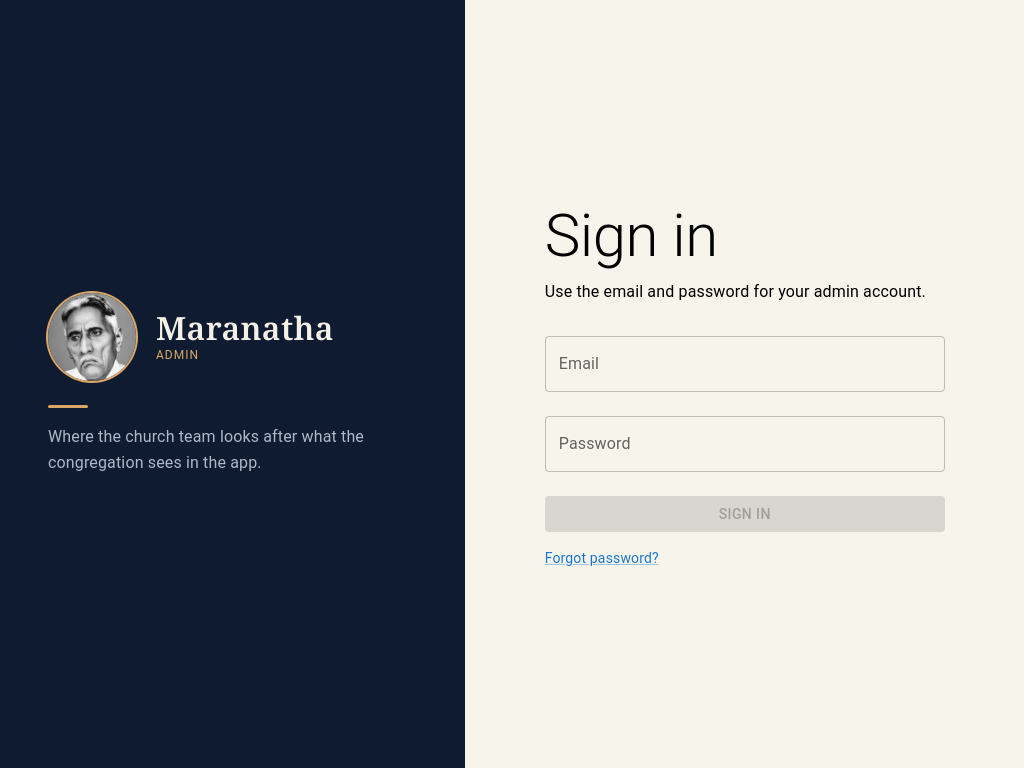
Test: LoginPage › password reset › switches to the reset-password form when "Forgot password?" is clicked
Click the button with test id "forgot-password-link".
click(602, 558)  # box top-left (545, 548), bottom-right (659, 568)
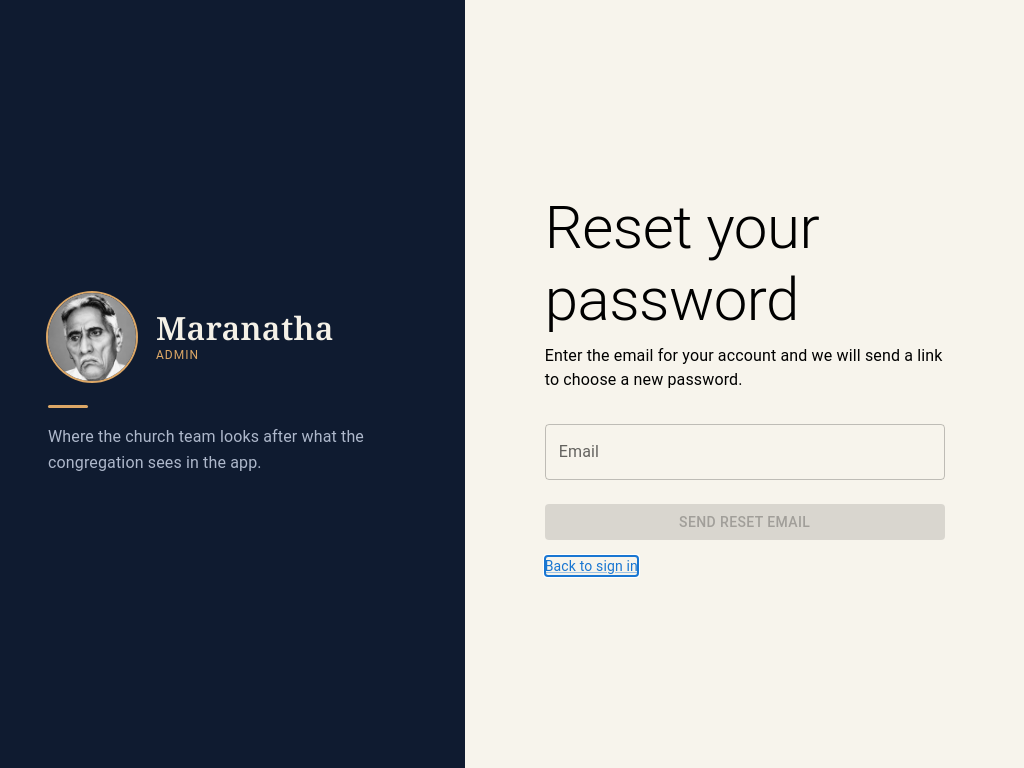
Expected: the field with test id "reset-email-input" is shown, top-left (545, 424), bottom-right (945, 480)
Expected: the field with test id "email-input" is gone
